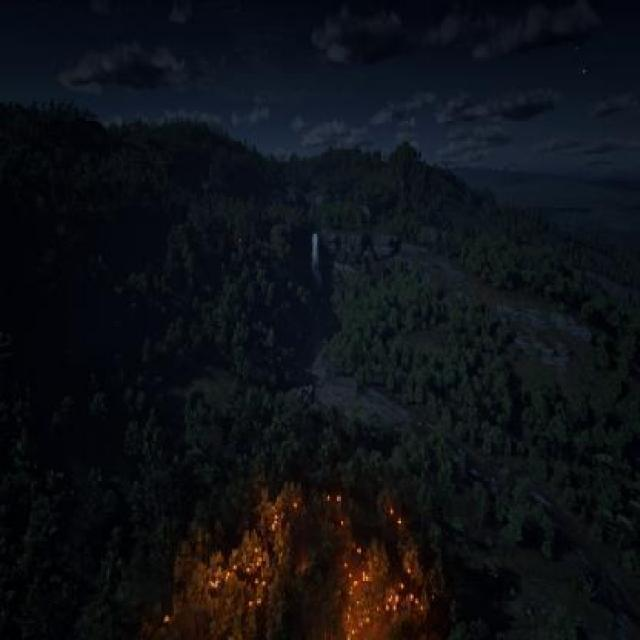Fire: (146, 462, 437, 640)
